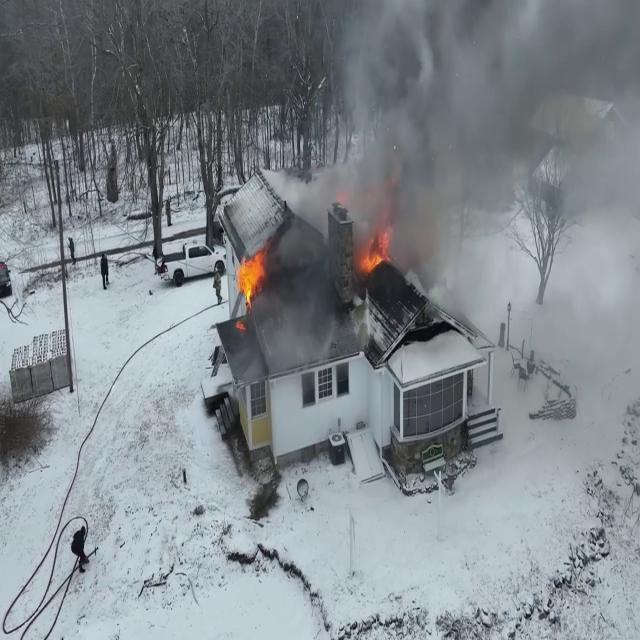Fire: (356, 220, 394, 278), (236, 240, 266, 311)
Smoke: (326, 0, 640, 312)
